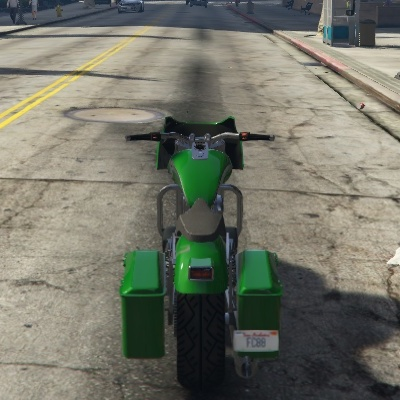off: (183, 253, 221, 287)
